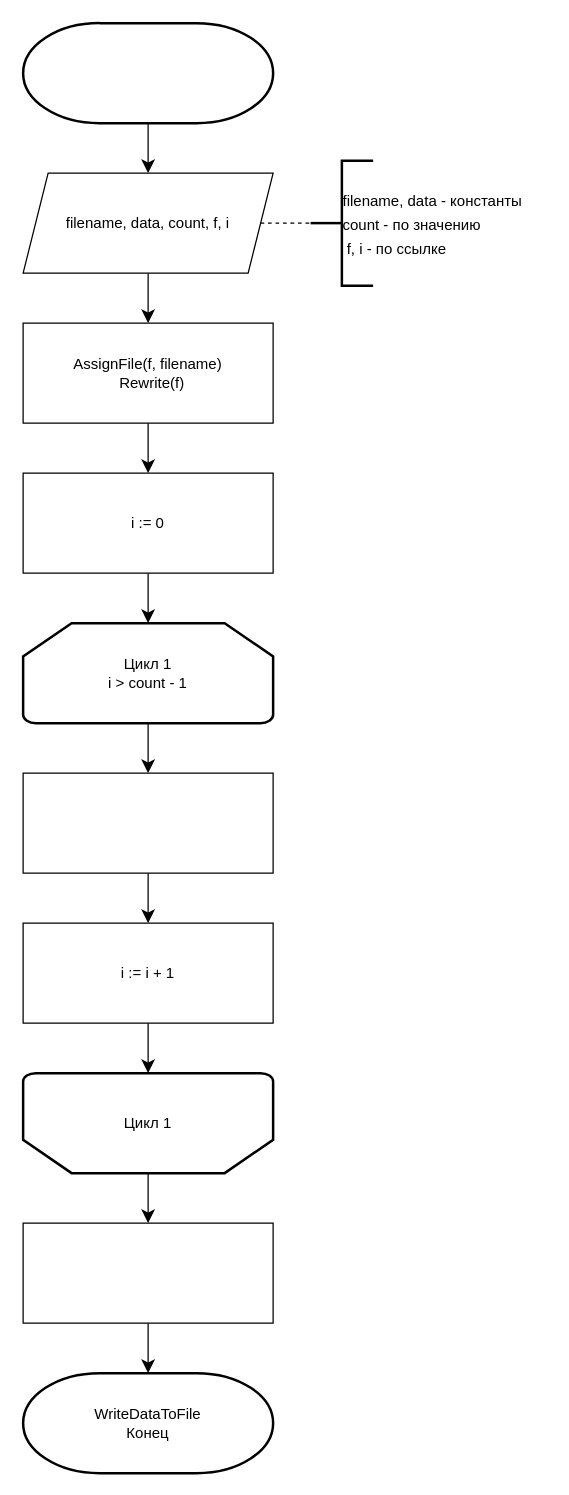
The diagram is 569 pixels wide and 1495 high, and some of its shapes have lost their labels. Each missing label, with the box of its shape:
CloseFile(f): (22, 1222, 273, 1323)
WriteDataToFile Начало: (21, 21, 274, 124)
WriteLn(f, data[i]): (22, 772, 273, 873)
